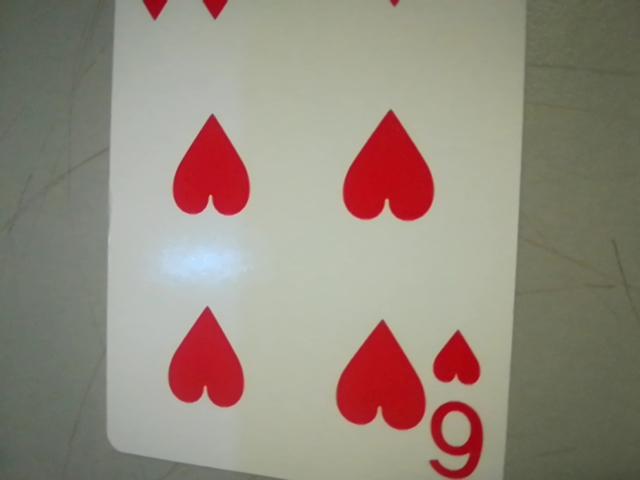hx 6: (421, 322, 500, 480)
